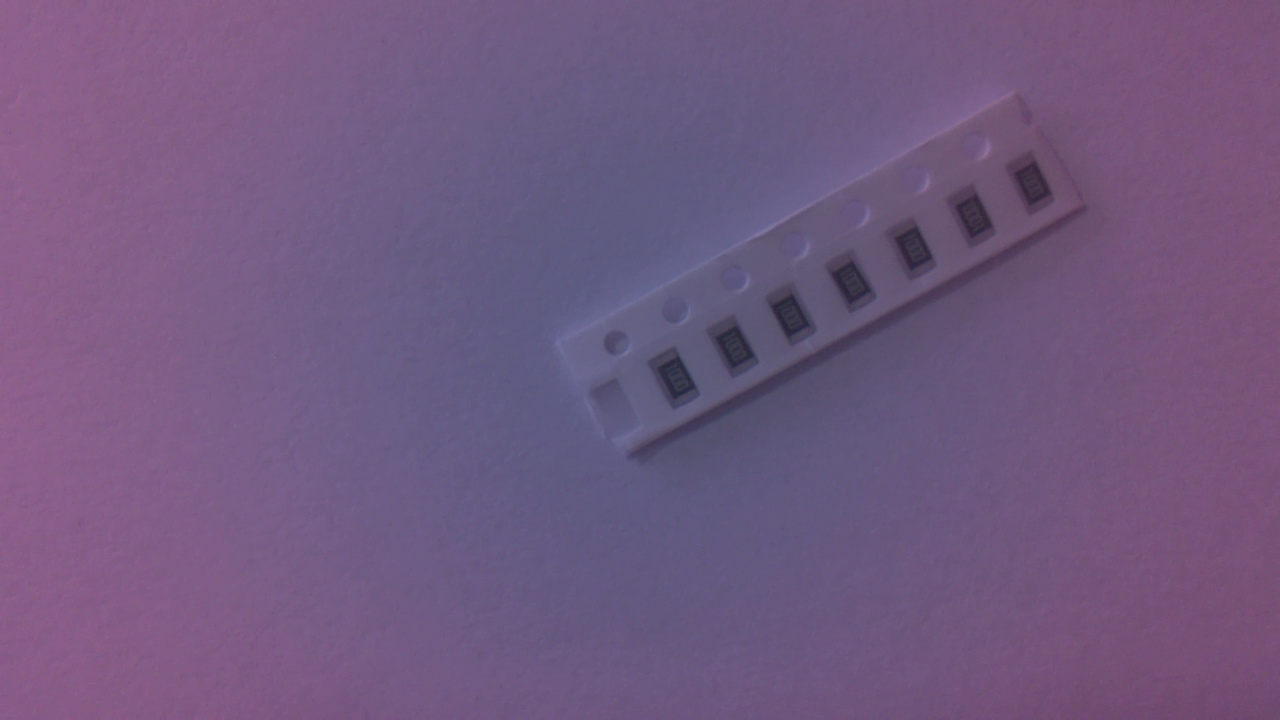Resistor: (769, 285, 825, 352), (887, 224, 943, 290), (950, 193, 1005, 260), (825, 254, 882, 318), (652, 351, 708, 416), (711, 317, 766, 382), (1010, 157, 1065, 220)
